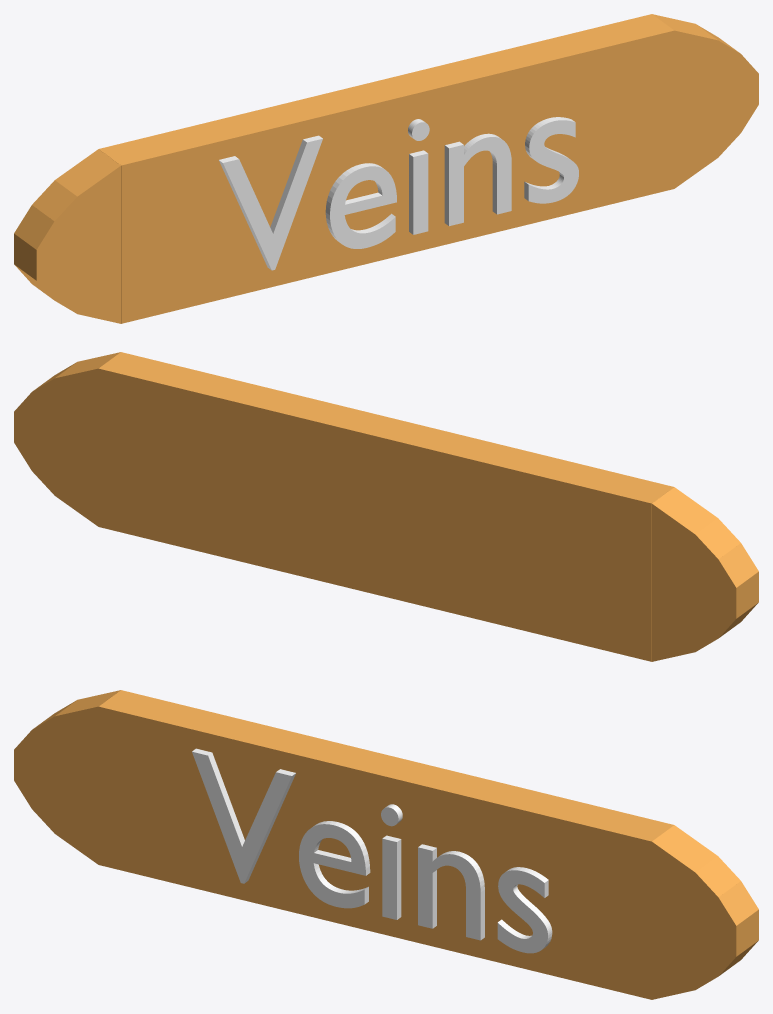
Rendered from txtVeins.fbx.
The picture shows the model from 3 angles, top to bottom: view 1: azimuth 30°, elevation 25°; view 2: azimuth 150°, elevation 25°; view 3: azimuth 330°, elevation 25°; orthographic projection.
Parts seen in each view (by area): view 1: TagContainer.030, Text.031; view 2: TagContainer.030; view 3: TagContainer.030, Text.031.
Boxes of the visible parts, <box> form: TagContainer.030: <box>14,14,758,323</box>; Text.031: <box>219,117,578,270</box>; TagContainer.030: <box>14,352,758,661</box>; TagContainer.030: <box>14,690,758,999</box>; Text.031: <box>192,748,552,953</box>.
Bounding box in the file's own units: 197 × 41.3 × 12.69.
